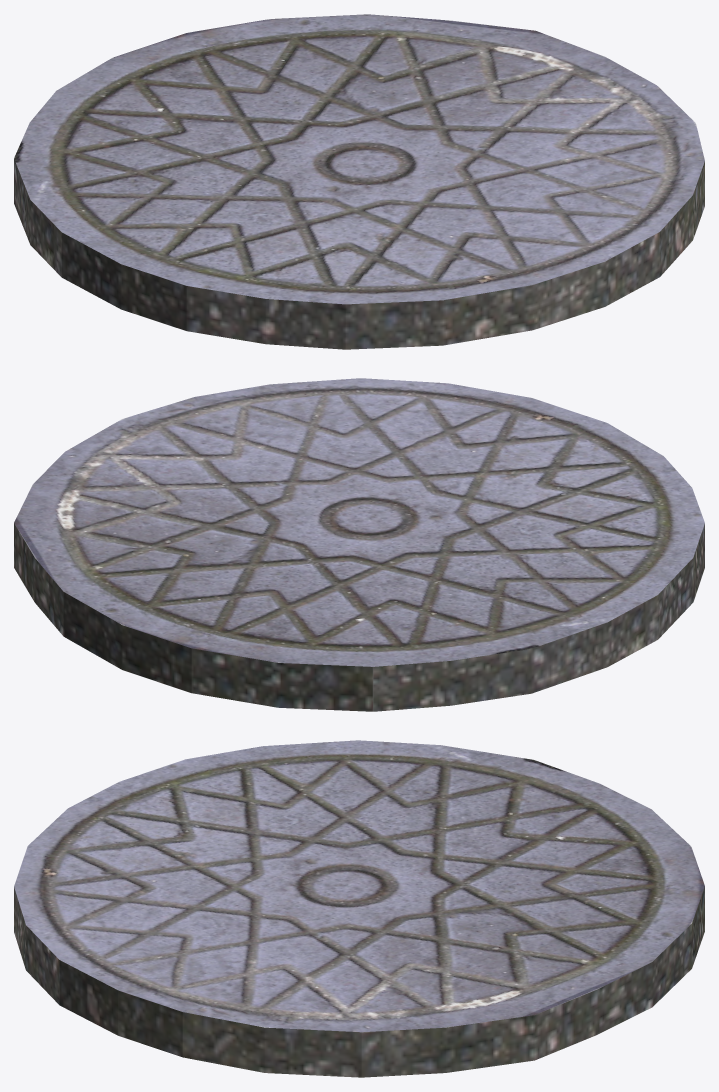
File: ManholeCover.fbx
3 renders of one model, top to bottom at view 1: azimuth 30°, elevation 25°; view 2: azimuth 150°, elevation 25°; view 3: azimuth 270°, elevation 25°, orthographic.
Visible parts, largest first — view 1: ManHoleCover; view 2: ManHoleCover; view 3: ManHoleCover.
Part boxes in pixels (bbox=[...]): ManHoleCover: bbox=[14, 14, 704, 349]; ManHoleCover: bbox=[14, 378, 704, 711]; ManHoleCover: bbox=[14, 740, 704, 1077].
Size of the model in its own units: 138 by 138 by 10.04.
Materials: 1 (1 with a texture image).
